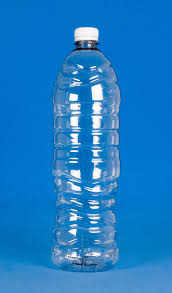Botella: (52, 28, 120, 270)
